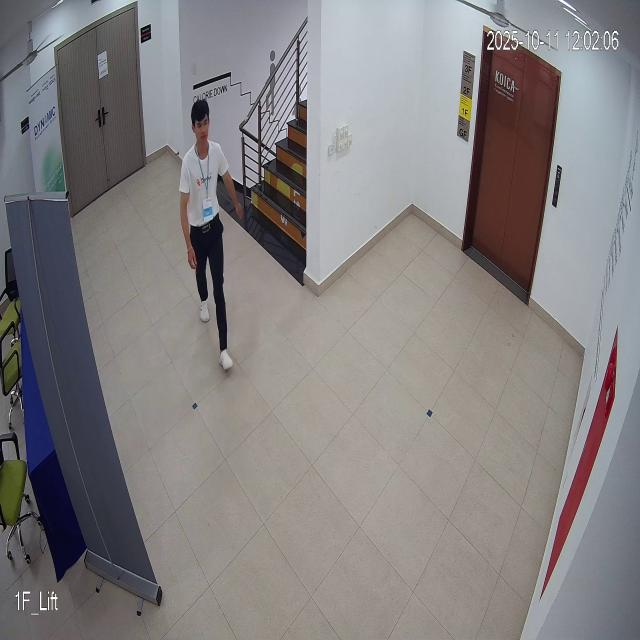face: (188, 98, 215, 151)
